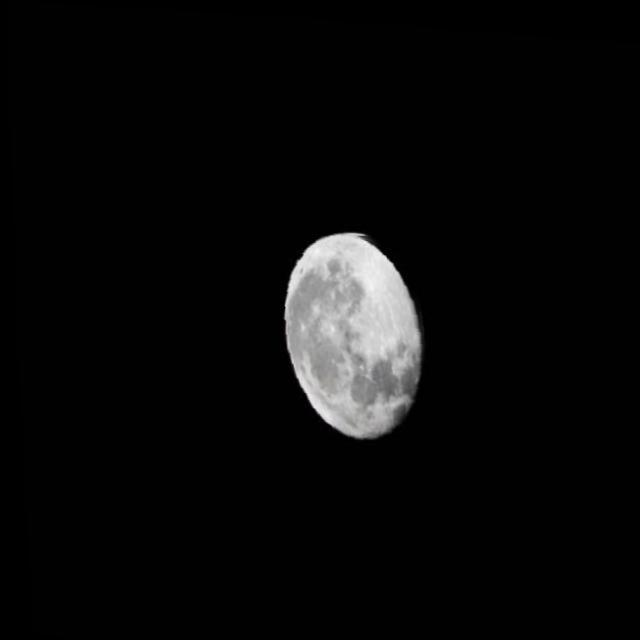moon: (273, 224, 432, 444)
